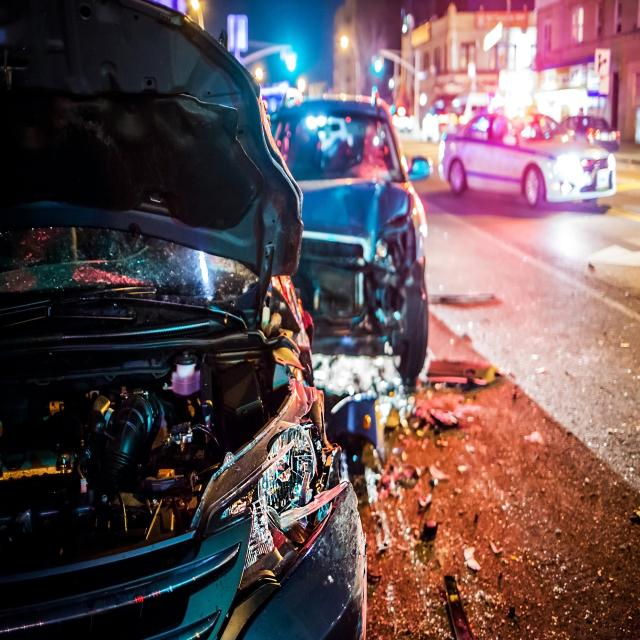Accident: (0, 0, 428, 640)
